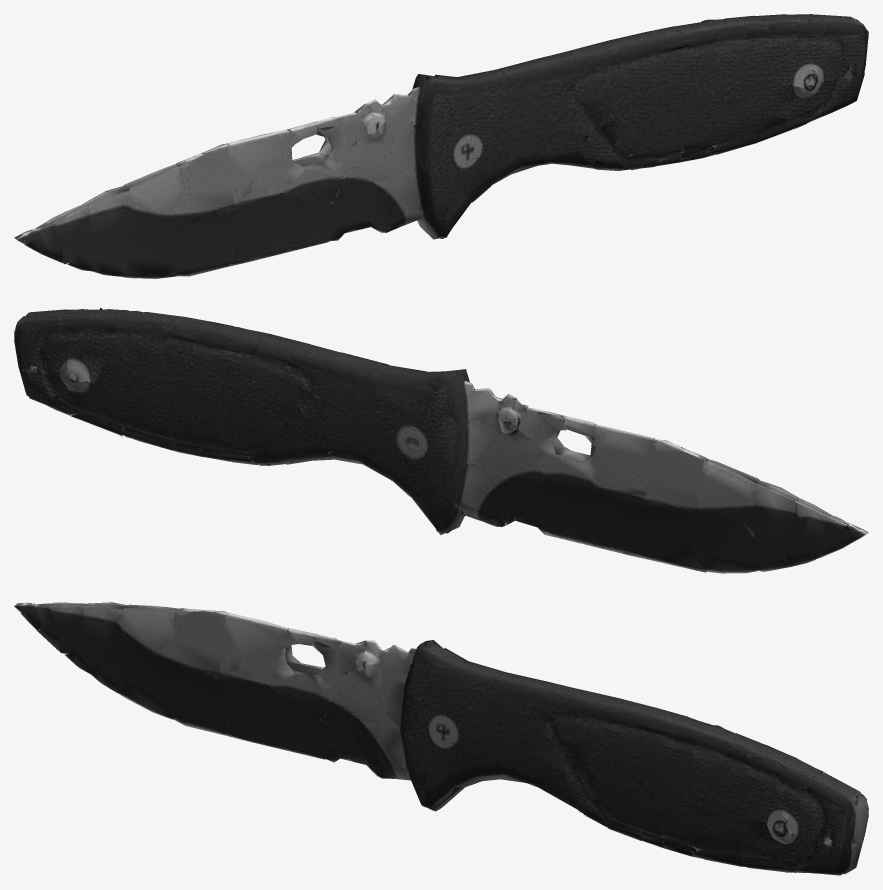
The model's file is knife-meshy-low.glb.
3 views of the same model, one above another, from view 1: azimuth 30°, elevation 25°; view 2: azimuth 150°, elevation 25°; view 3: azimuth 330°, elevation 25° (orthographic).
Parts seen in each view (by area): view 1: Mesh_0.003; view 2: Mesh_0.003; view 3: Mesh_0.003.
Part boxes in pixels (left/top/right/bottom): Mesh_0.003: left=14, top=14, right=868, bottom=278; Mesh_0.003: left=14, top=308, right=868, bottom=573; Mesh_0.003: left=14, top=602, right=868, bottom=875.
Size of the model in its own units: 1.9 by 0.3529 by 0.1209.
Materials: 1 (1 with a texture image).
